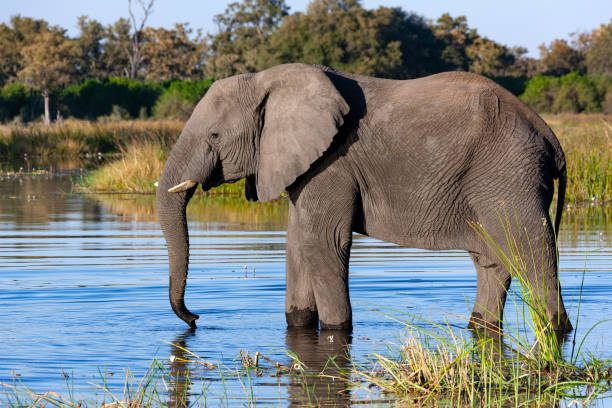africanelephant: (139, 61, 304, 313)
